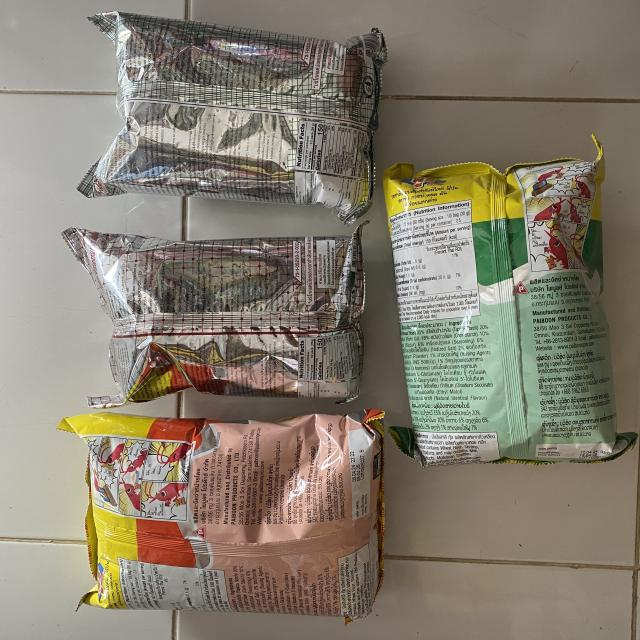plastik: (384, 136, 638, 466), (59, 409, 384, 621), (79, 11, 386, 224), (62, 225, 365, 408)
